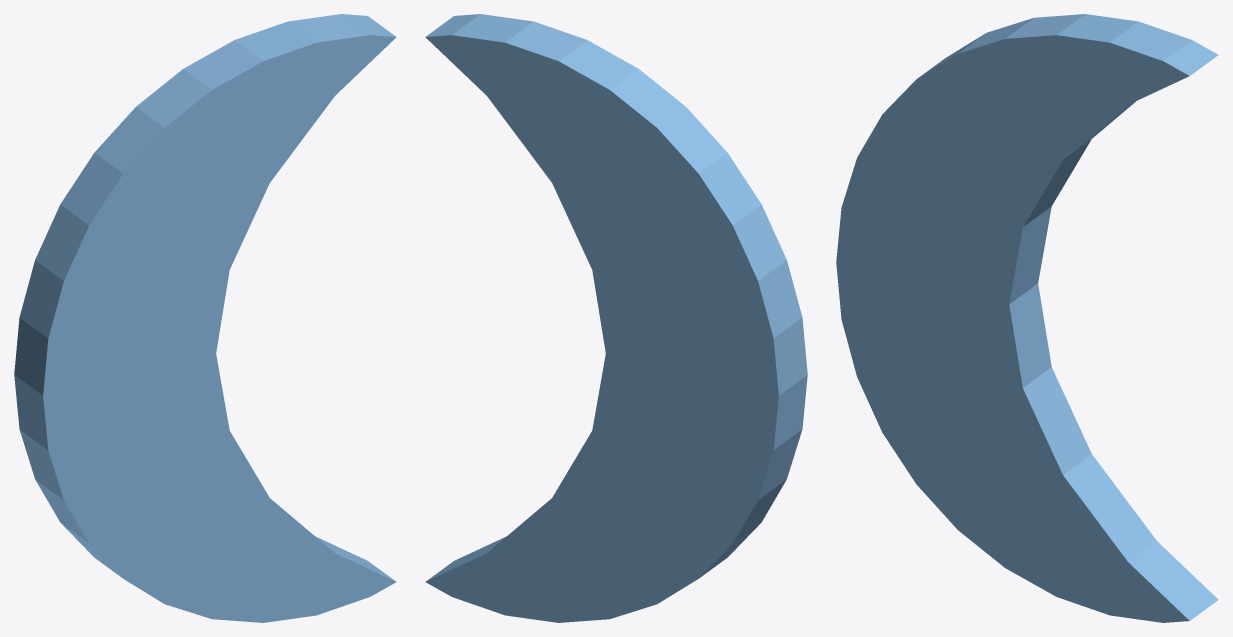
The model's file is symbol4.fbx.
3 renders of one model, left to right at view 1: azimuth 30°, elevation 25°; view 2: azimuth 150°, elevation 25°; view 3: azimuth 330°, elevation 25°, orthographic.
Parts seen in each view (by area): view 1: Cylinder; view 2: Cylinder; view 3: Cylinder.
Boxes of the visible parts, x1,y1,x2,y2 form: Cylinder: (14,14,396,622); Cylinder: (425,14,807,622); Cylinder: (836,14,1218,622).
Bounding box in the file's own units: 10.6 × 16.41 × 1.5.
